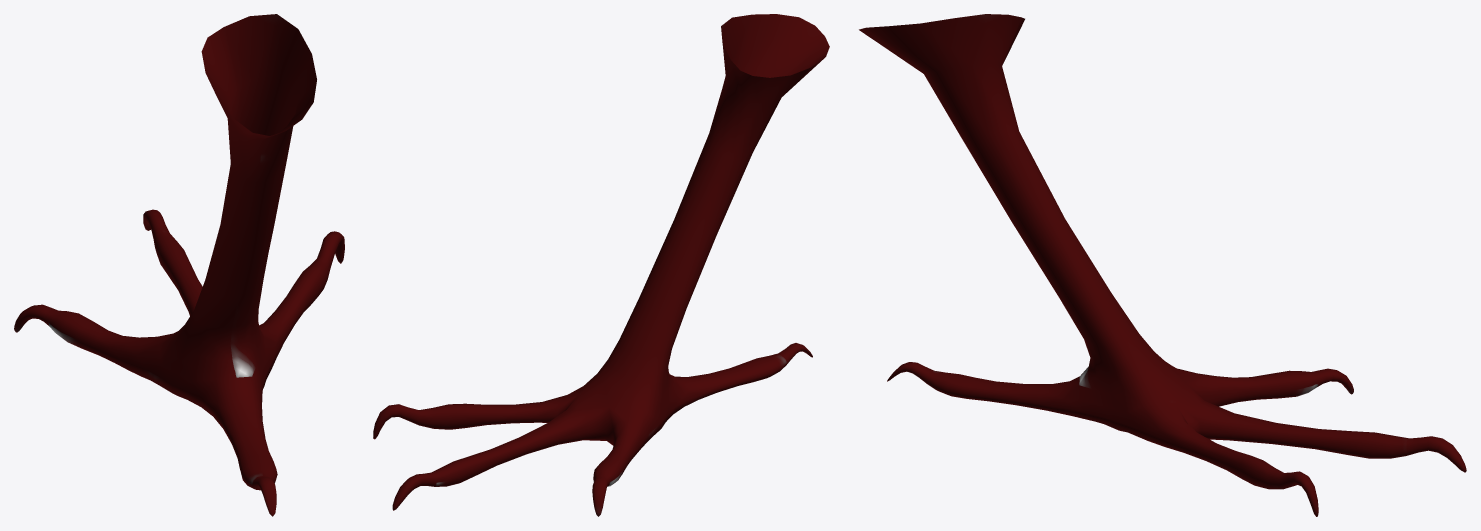
Rendered from PiernaDerPajaroProyectorPicapiedras.obj.
The picture shows the model from 3 angles, left to right: view 1: azimuth 30°, elevation 25°; view 2: azimuth 150°, elevation 25°; view 3: azimuth 270°, elevation 25°; orthographic projection. The views are drawn at different scales.
Parts seen in each view (by area): view 1: polySurface49 polySurface46 polySurface45; view 2: polySurface49 polySurface46 polySurface45; view 3: polySurface49 polySurface46 polySurface45.
Part boxes in pixels (bbox=[...]): polySurface49 polySurface46 polySurface45: bbox=[14, 14, 344, 516]; polySurface49 polySurface46 polySurface45: bbox=[373, 14, 829, 516]; polySurface49 polySurface46 polySurface45: bbox=[859, 14, 1466, 516].
Size of the model in its own units: 2.61 by 3.43 by 4.7.
1 material, 1 textured.
